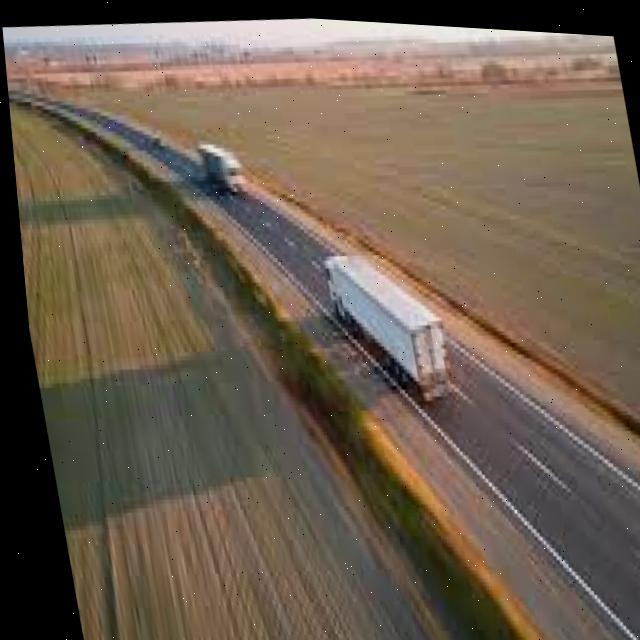truck: (312, 239, 451, 402)
